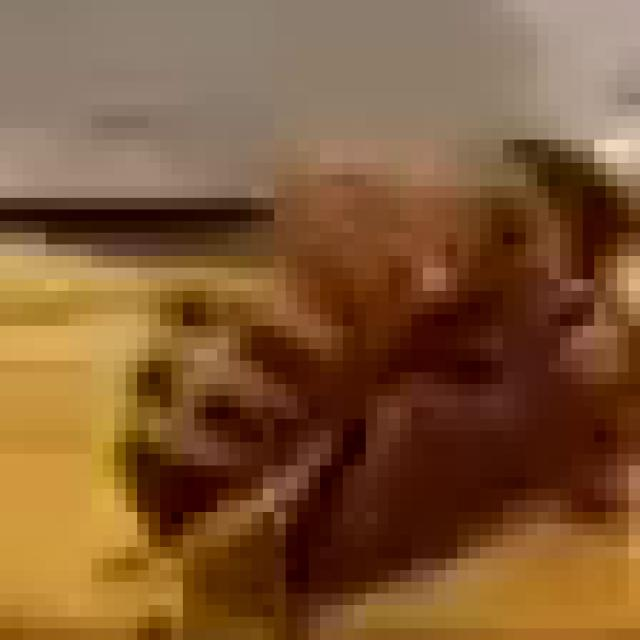honeybee: (101, 177, 628, 576)
